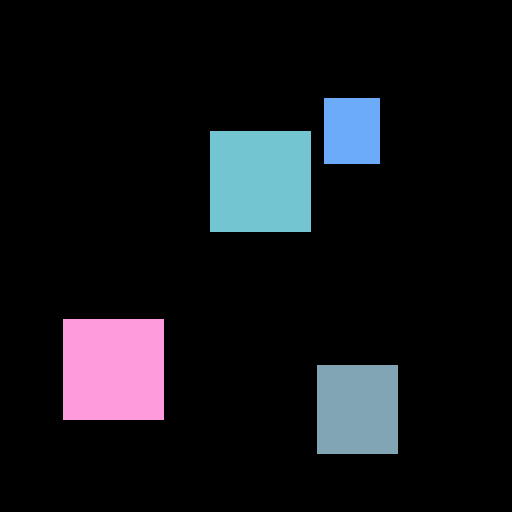rectangle: (324, 98, 379, 163)
square: (63, 319, 163, 419), (210, 131, 310, 231), (317, 365, 397, 453)
